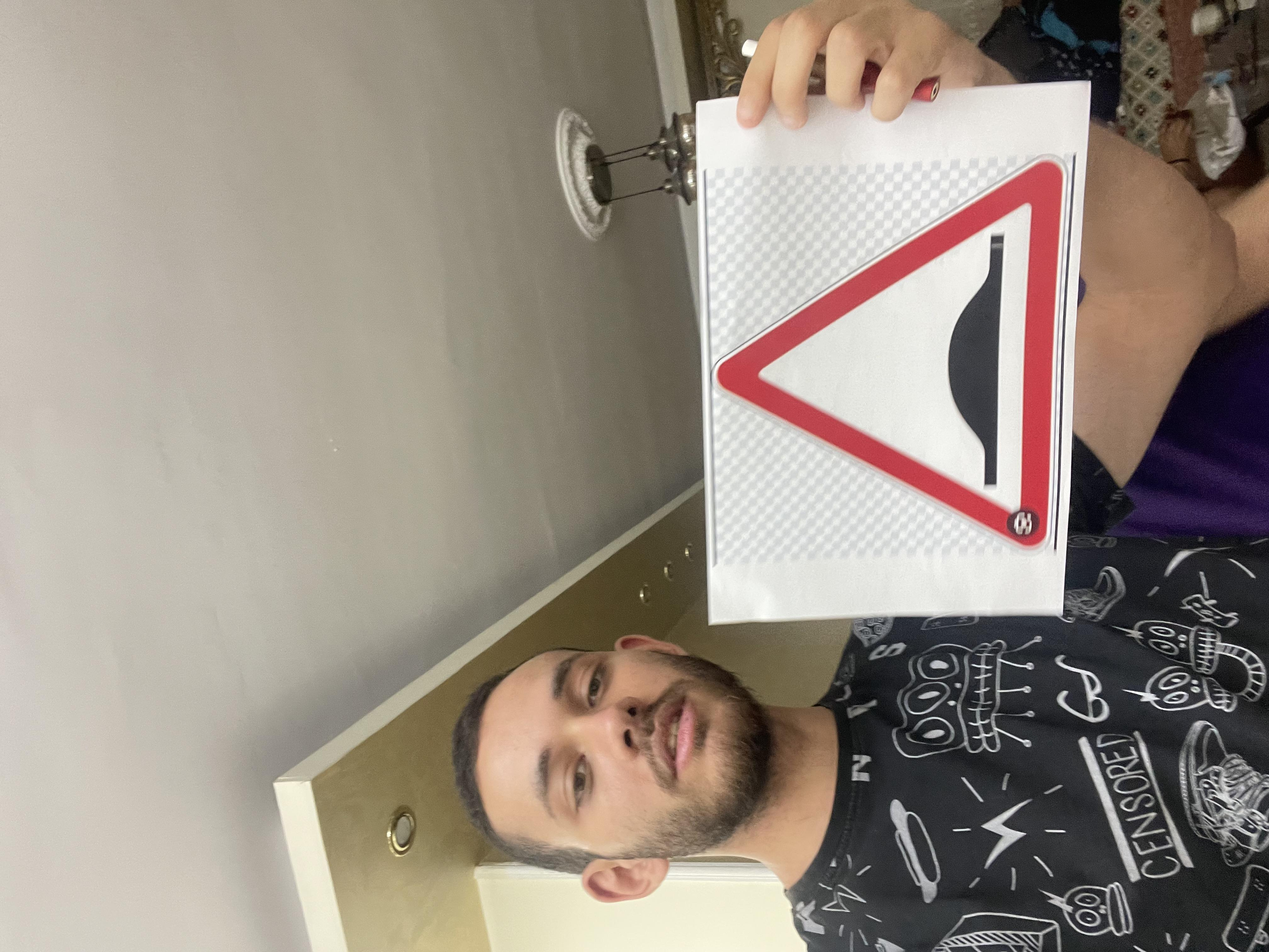Hump: (529, 534, 1075, 796)
